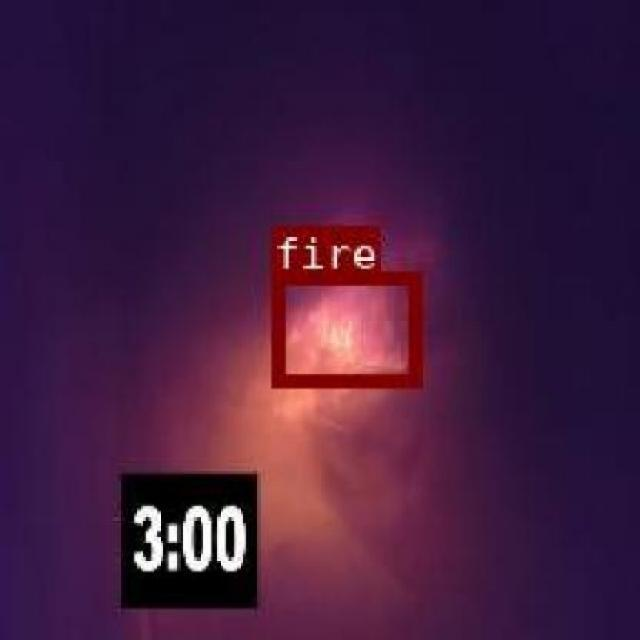Fire: (270, 270, 418, 384)
